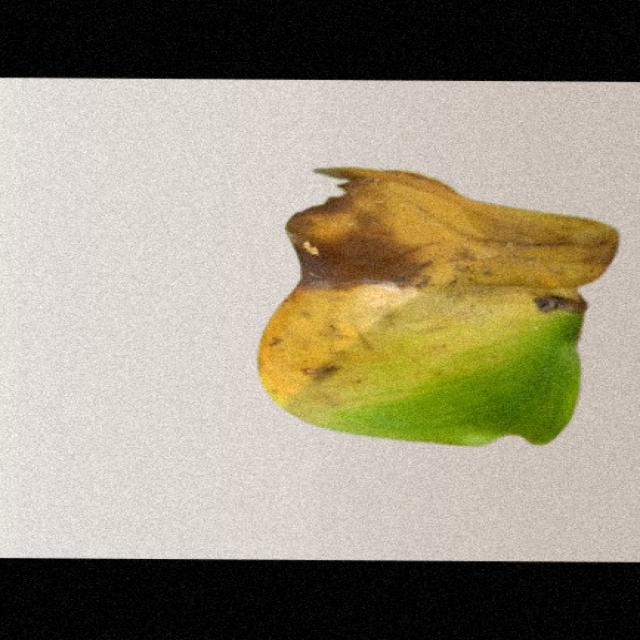daun berpenyakit kuning: (258, 169, 618, 444)
